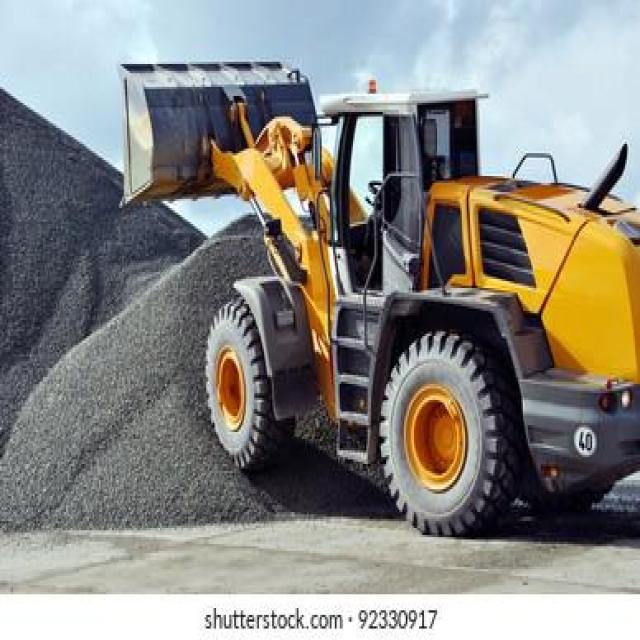pala cargadora: (115, 50, 638, 542)
